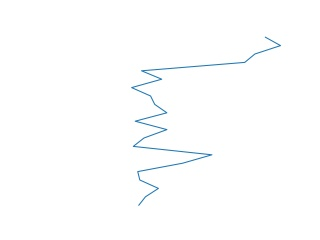crevasseRiverChannelBar: (127, 35, 285, 210)
